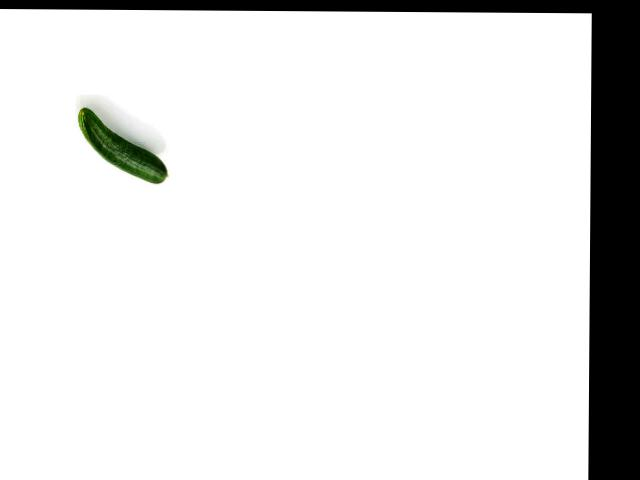cucumber: (78, 107, 168, 183)
